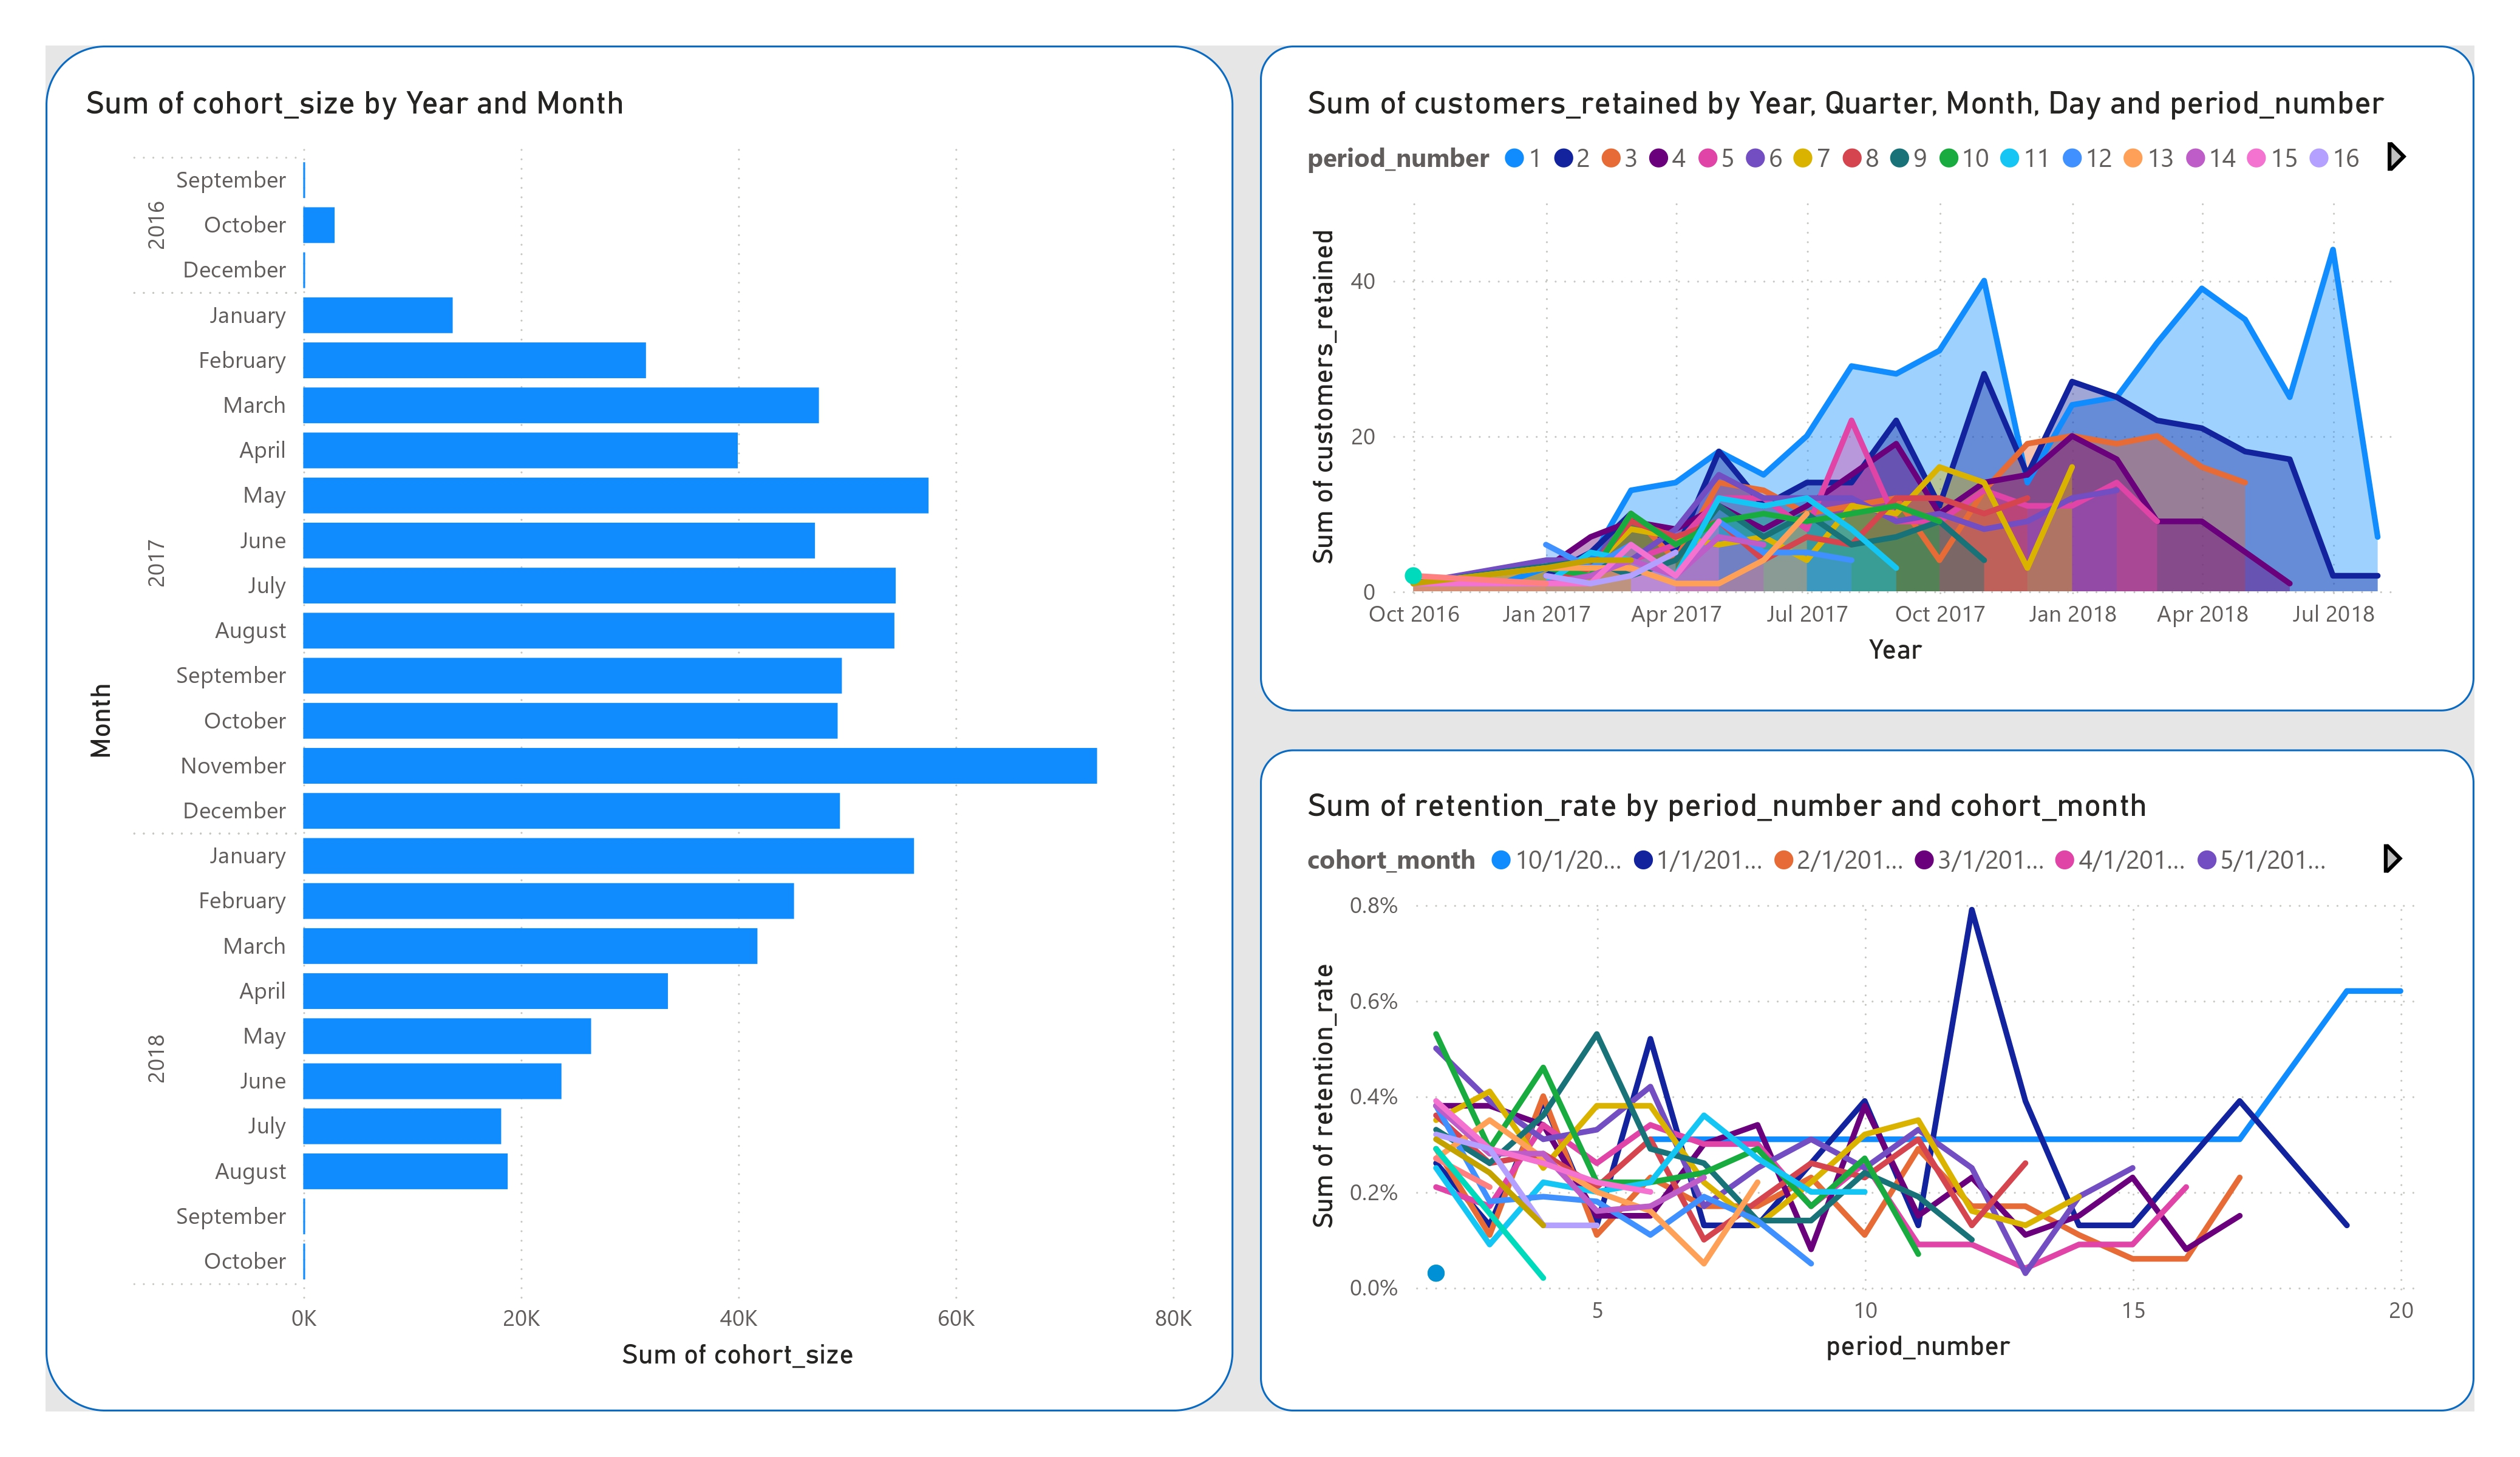

This screenshot's page, from the dashboard's own definition file:
{"tool":"powerbi","page":{"name":"Customer Retention","canvas":[1280,720],"ordinal":1},"visuals":[{"type":"shape","box":[640.5,370.6,639.3,349.7],"z":0},{"type":"shape","box":[640.5,0,639.3,350.9],"z":1000},{"type":"shape","box":[0,0,625.8,720.2],"z":2000},{"type":"barChart","fields":{"Category":["analytics v_cohort_retention.cohort_month.Variation.Date Hierarchy.Year","analytics v_cohort_retention.cohort_month.Variation.Date Hierarchy.Month"],"Y":["Sum(analytics v_cohort_retention.cohort_size)"]},"box":[20.9,19.6,582.8,678.5],"z":3000},{"type":"areaChart","fields":{"Y":["Sum(analytics v_cohort_retention.customers_retained)"],"Series":["analytics v_cohort_retention.period_number"],"Category":["analytics v_cohort_retention.cohort_month.Variation.Date Hierarchy.Year","analytics v_cohort_retention.cohort_month.Variation.Date Hierarchy.Quarter","analytics v_cohort_retention.cohort_month.Variation.Date Hierarchy.Month","analytics v_cohort_retention.cohort_month.Variation.Date Hierarchy.Day"]},"box":[660.1,19.6,596.3,311.7],"z":4000},{"type":"lineChart","fields":{"Category":["analytics v_cohort_retention.period_number"],"Y":["Sum(analytics v_cohort_retention.retention_rate)"],"Series":["analytics v_cohort_retention.cohort_month"]},"box":[660.1,390.2,596.3,308],"z":5000}]}

Visuals, with their boxes on the page's 1280x720 design canvas (x1, y1, x2, y2). These are canvas units, not pixel positions in the 2520x1457 screenshot, which may show the page scaled, cropped or inside an application window:
shape: left=640, top=371, right=1280, bottom=720
shape: left=640, top=0, right=1280, bottom=351
shape: left=0, top=0, right=626, bottom=720
barChart - analytics v_cohort_retention.cohort_month.Variation.Date Hierarchy.Year x analytics v_cohort_retention.cohort_month.Variation.Date Hierarchy.Month: left=21, top=20, right=604, bottom=698
areaChart - Sum(analytics v_cohort_retention.customers_retained) x analytics v_cohort_retention.period_number: left=660, top=20, right=1256, bottom=331
lineChart - analytics v_cohort_retention.period_number x Sum(analytics v_cohort_retention.retention_rate): left=660, top=390, right=1256, bottom=698
